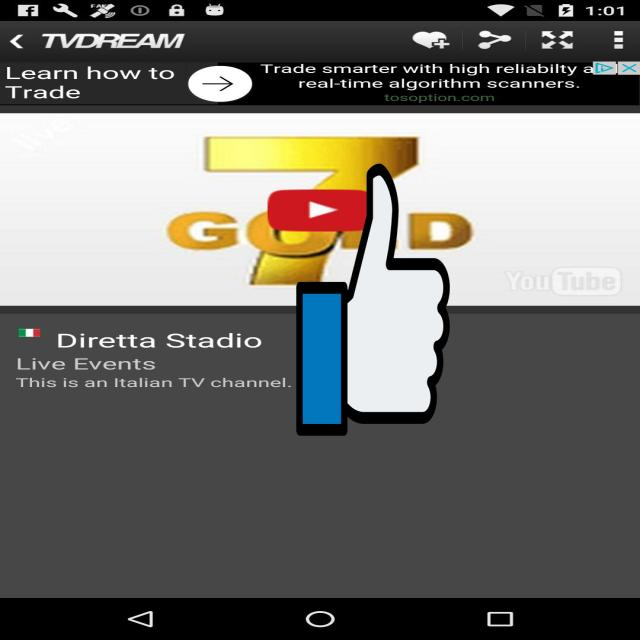privacy zuckering: (296, 158, 450, 442)
